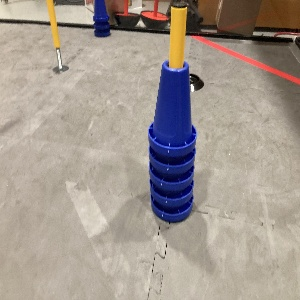Blue_5: (144, 55, 200, 225)
